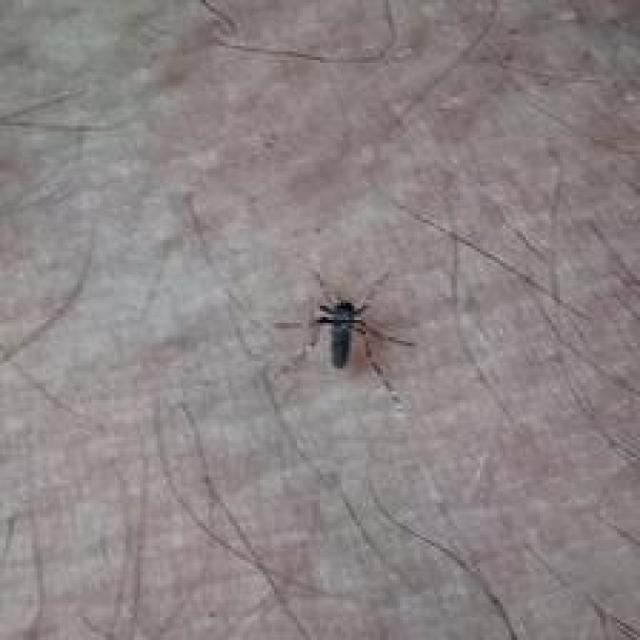Aedes albopictus: (273, 268, 416, 412)
